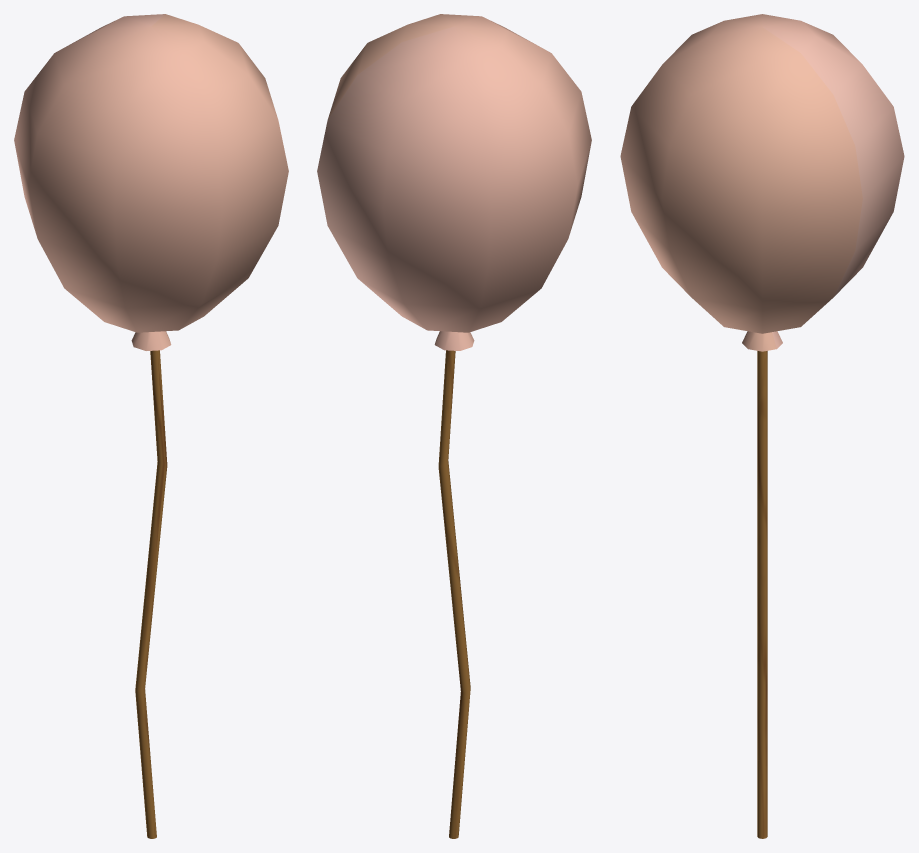
File: Balloon3.fbx
3 renders of one model, left to right at view 1: azimuth 30°, elevation 25°; view 2: azimuth 150°, elevation 25°; view 3: azimuth 270°, elevation 25°, orthographic.
Visible parts, largest first — view 1: polySurface224; view 2: polySurface224; view 3: polySurface224.
Boxes of the visible parts, x1,y1,x2,y2 form: polySurface224: [14, 14, 288, 838]; polySurface224: [317, 14, 591, 838]; polySurface224: [620, 14, 904, 838].
Bounding box in the file's own units: 0.4182 × 1.31 × 0.4182.
